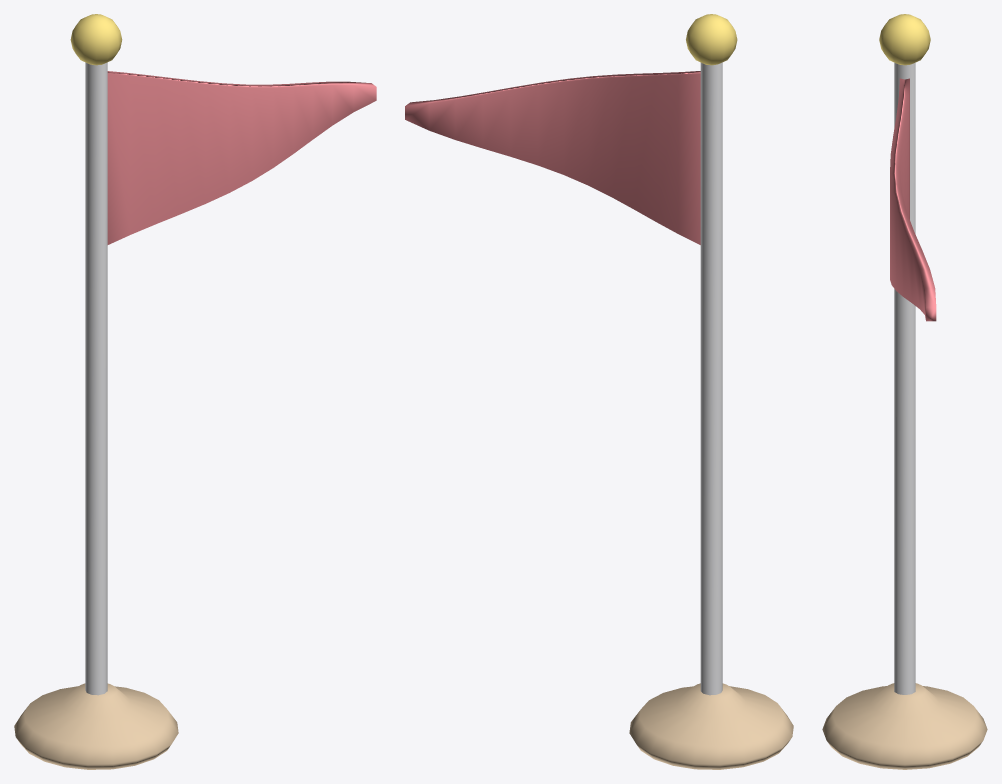
File: MechaMarathonFlag.glb
3 renders of one model, left to right at view 1: azimuth 30°, elevation 25°; view 2: azimuth 150°, elevation 25°; view 3: azimuth 270°, elevation 25°, orthographic.
Parts seen in each view (by area): view 1: Pennant, Pole, Base, Finial; view 2: Pennant, Pole, Base, Finial; view 3: Base, Pole, Pennant, Finial.
Boxes of the visible parts, <box> form: Pennant: <box>107,71,376,244</box>; Pole: <box>85,62,107,695</box>; Base: <box>14,683,178,769</box>; Finial: <box>70,14,122,65</box>; Pennant: <box>405,71,700,244</box>; Pole: <box>700,62,722,695</box>; Base: <box>629,683,793,769</box>; Finial: <box>686,14,737,65</box>; Base: <box>822,683,987,769</box>; Pole: <box>894,62,915,694</box>; Pennant: <box>890,78,936,321</box>; Finial: <box>879,14,930,65</box>.
Bounding box in the file's own units: 2.43 × 4.62 × 0.96.
